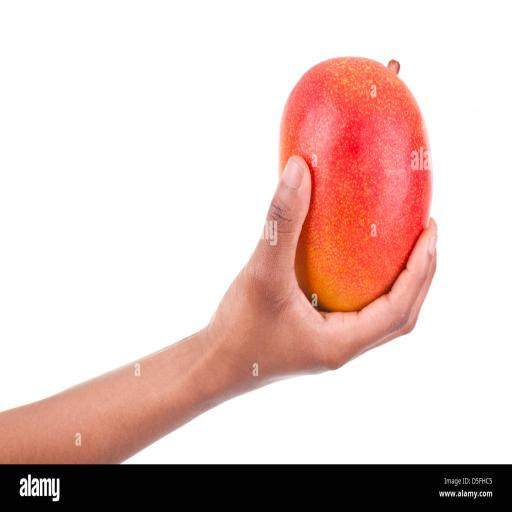mango: (280, 58, 432, 311)
